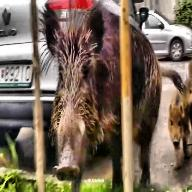boar: (42, 3, 180, 192)
